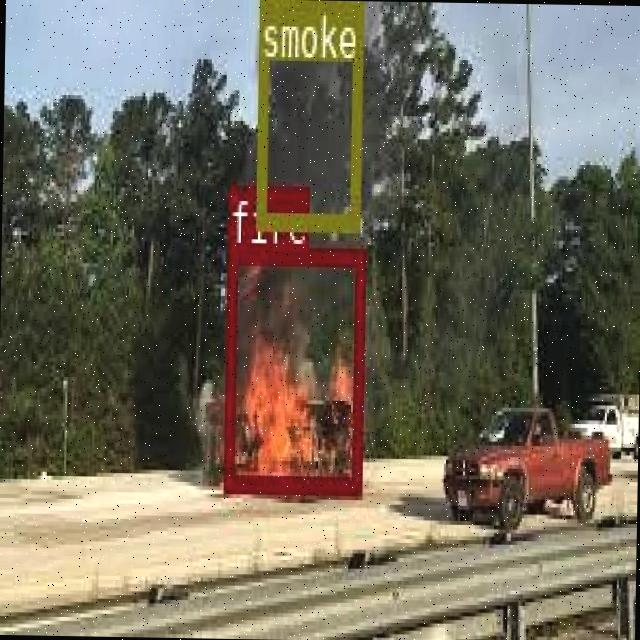fire: (222, 246, 363, 489)
smoke: (253, 0, 360, 225)
